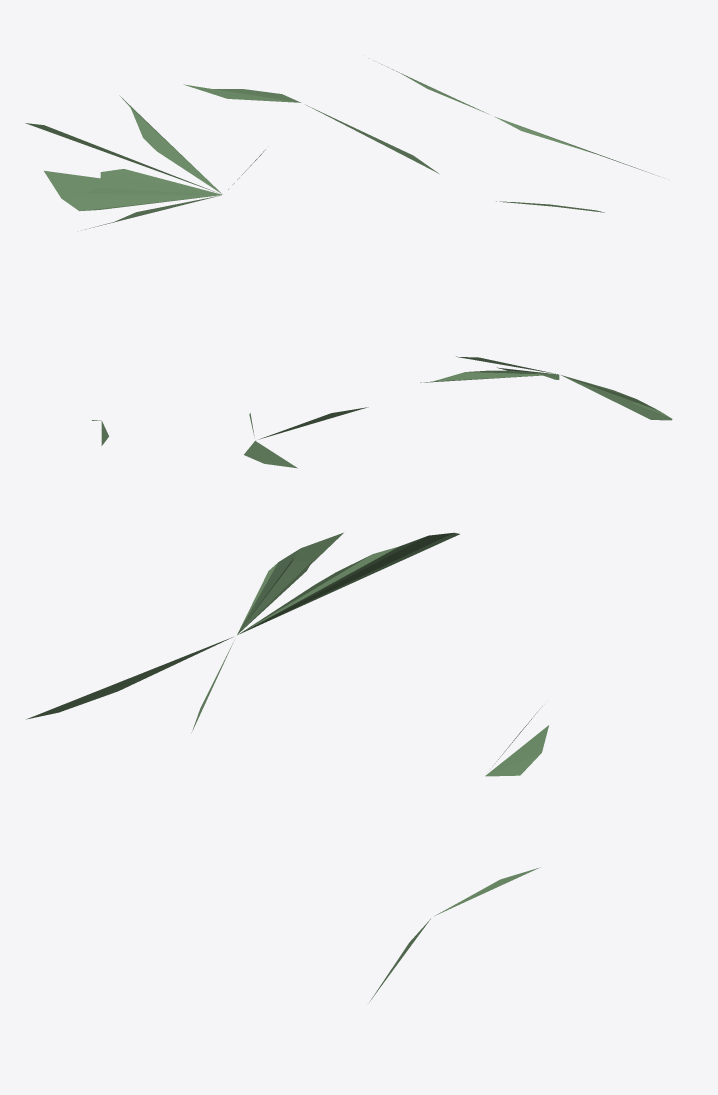
File: c_1669_17817_forest.glb
3 views of the same model, one above another, from view 1: azimuth 30°, elevation 25°; view 2: azimuth 150°, elevation 25°; view 3: azimuth 270°, elevation 25° (orthographic). The views are drawn at different scales.
Parts seen in each view (by area): view 1: geometry_0; view 2: geometry_0; view 3: geometry_0.
Part boxes in pixels (bbox=[...]): geometry_0: bbox=[25, 58, 658, 229]; geometry_0: bbox=[92, 356, 672, 468]; geometry_0: bbox=[26, 532, 548, 1002].
Bounding box in the file's own units: 499 × 140 × 383.
